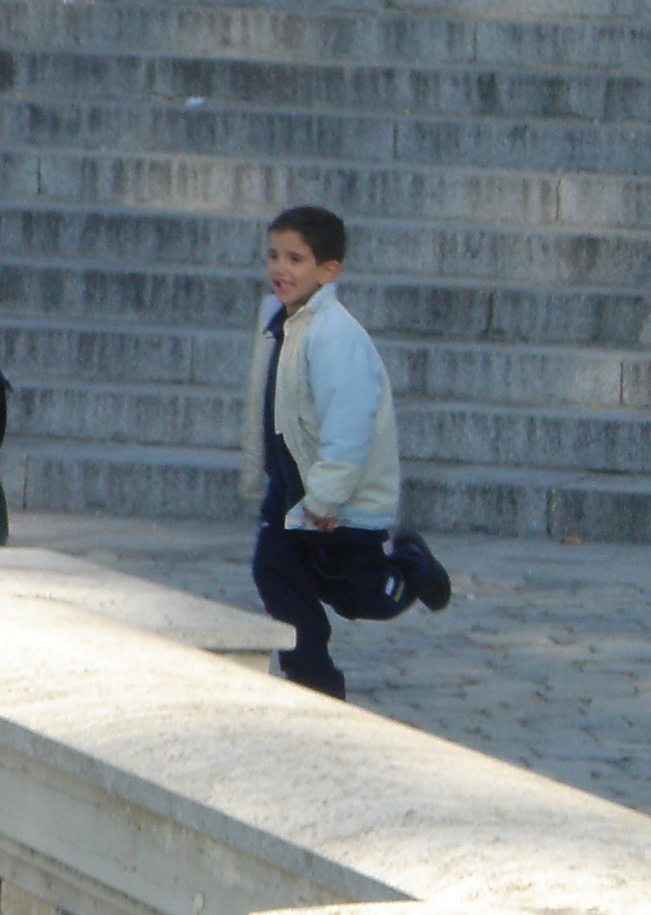person: (243, 204, 407, 722)
